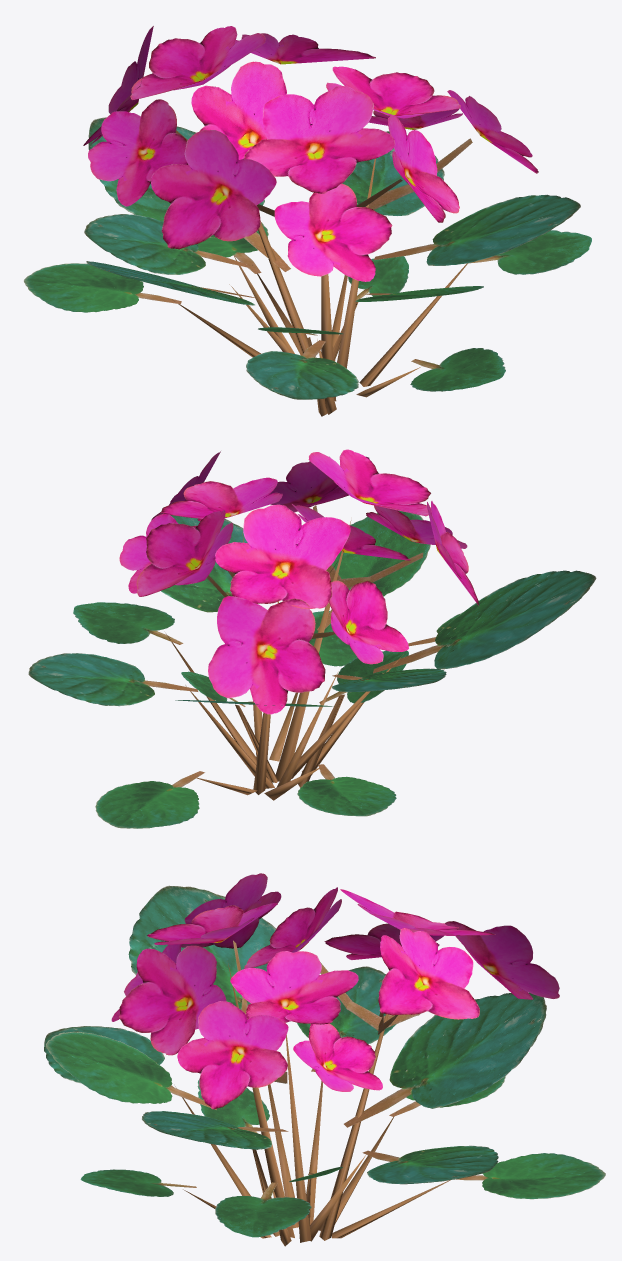
File: Saintpaulia2C.fbx
The picture shows the model from 3 angles, top to bottom: view 1: azimuth 30°, elevation 25°; view 2: azimuth 150°, elevation 25°; view 3: azimuth 270°, elevation 25°; orthographic projection. The views are drawn at different scales.
Parts seen in each view (by area): view 1: Sainpaulia2C_LOD2; view 2: Sainpaulia2C_LOD2; view 3: Sainpaulia2C_LOD2.
Part boxes in pixels (x1,y1,x2,y2): Sainpaulia2C_LOD2: (24, 26, 591, 416); Sainpaulia2C_LOD2: (28, 449, 596, 828); Sainpaulia2C_LOD2: (44, 873, 605, 1246).
Bounding box in the file's own units: 73.2 × 42.84 × 71.38.
